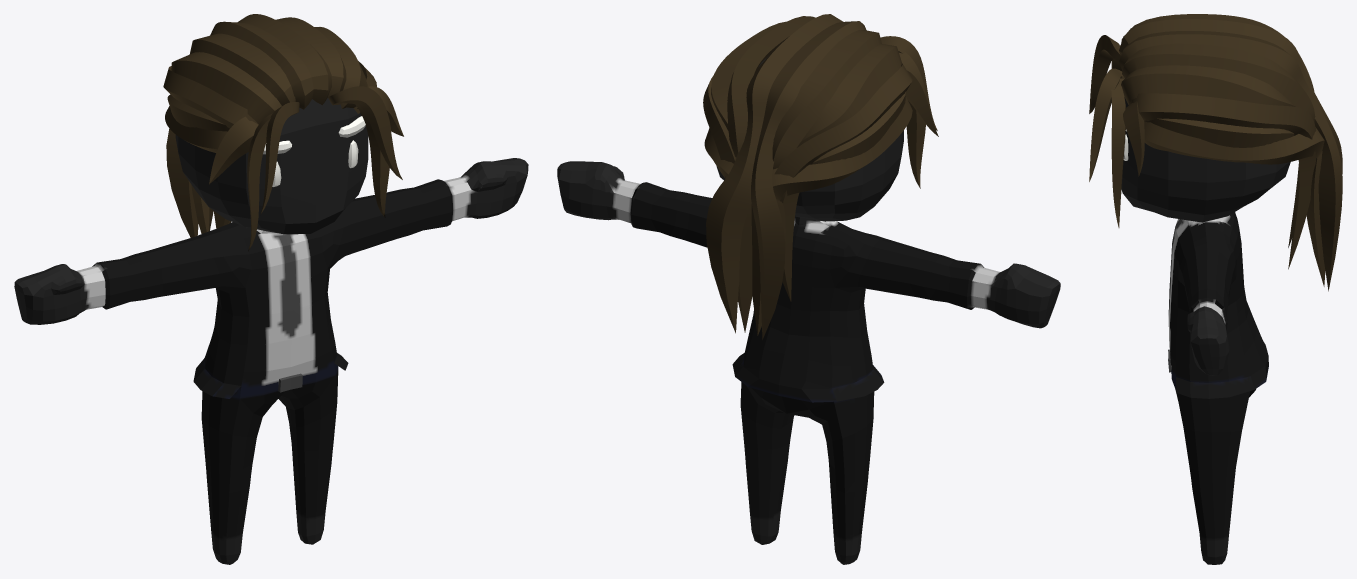
File: Suit_Female.fbx
3 views of the same model, side by side, from view 1: azimuth 30°, elevation 25°; view 2: azimuth 150°, elevation 25°; view 3: azimuth 270°, elevation 25° (orthographic). The views are drawn at different scales.
Visible parts, largest first — view 1: Body; view 2: Body; view 3: Body.
Part boxes in pixels (box(x1,y1,x2,y2)): Body: box(14, 14, 528, 564); Body: box(557, 14, 1060, 564); Body: box(1089, 14, 1342, 564).
Bounding box in the file's own units: 324 × 320 × 142.
Materials: 1 (1 with a texture image).
